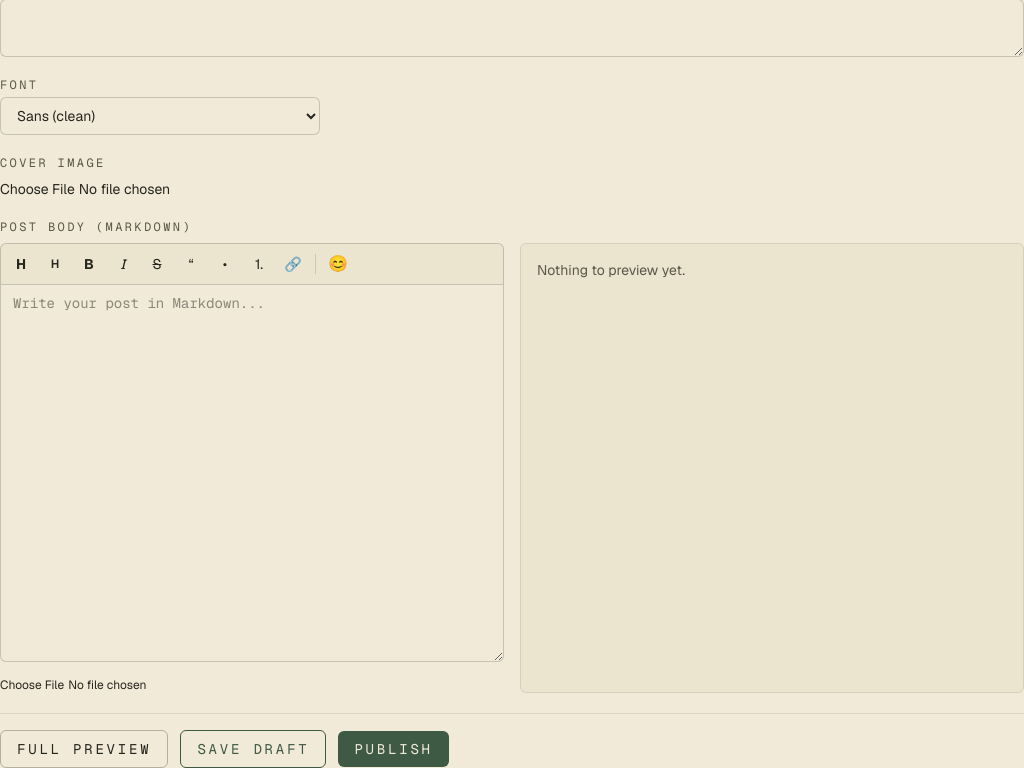
Test case: PostEditor › inserts an emoji at the cursor
(page scrolled)
Type "Hello " into the text box named "post body" at (252, 473), box [0,284,504,662]
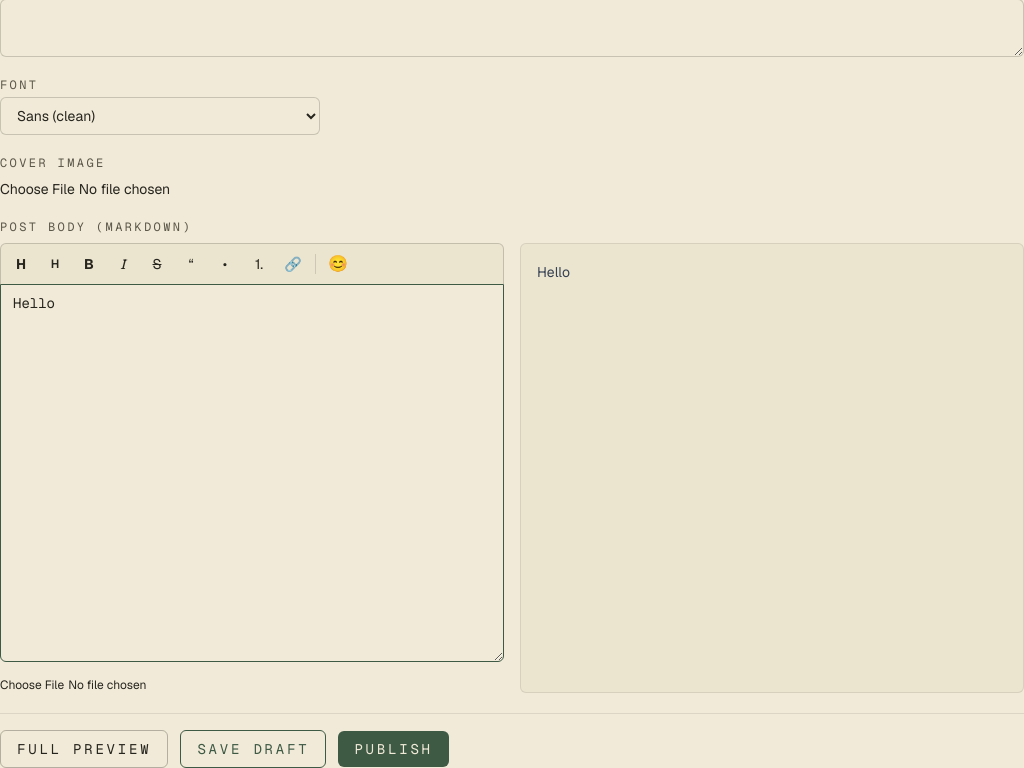
Click the button named "insert emoji" at (338, 264), box [322,248,354,280]
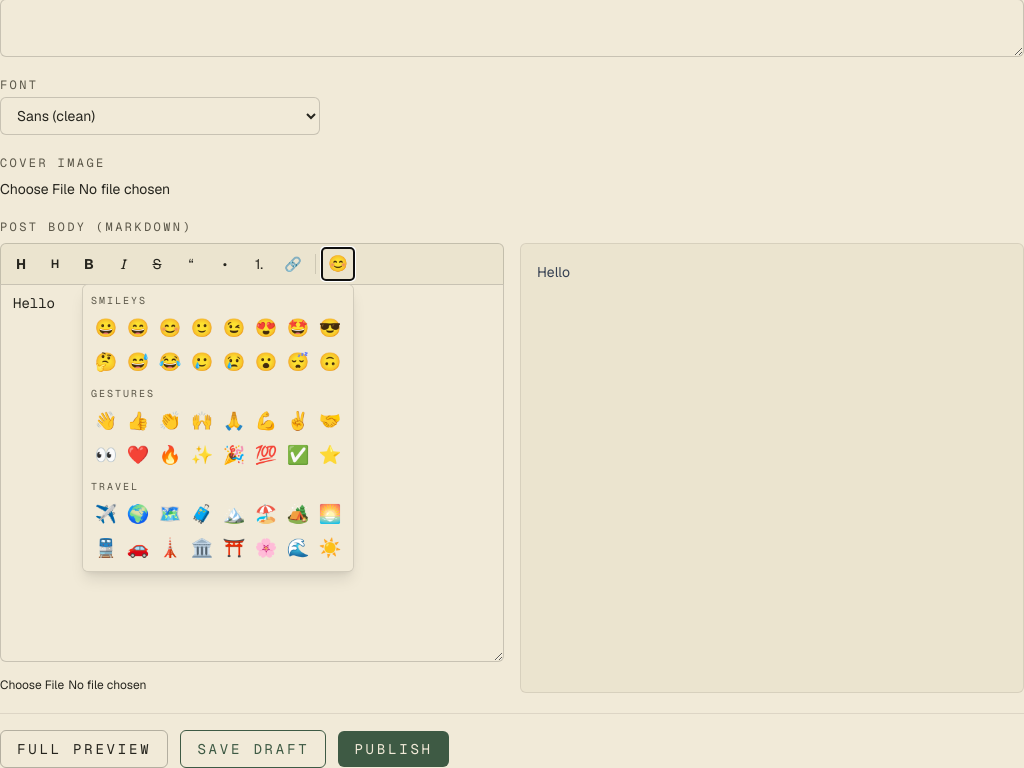
Click the button "😀" at (106, 328), box [91,312,121,344]
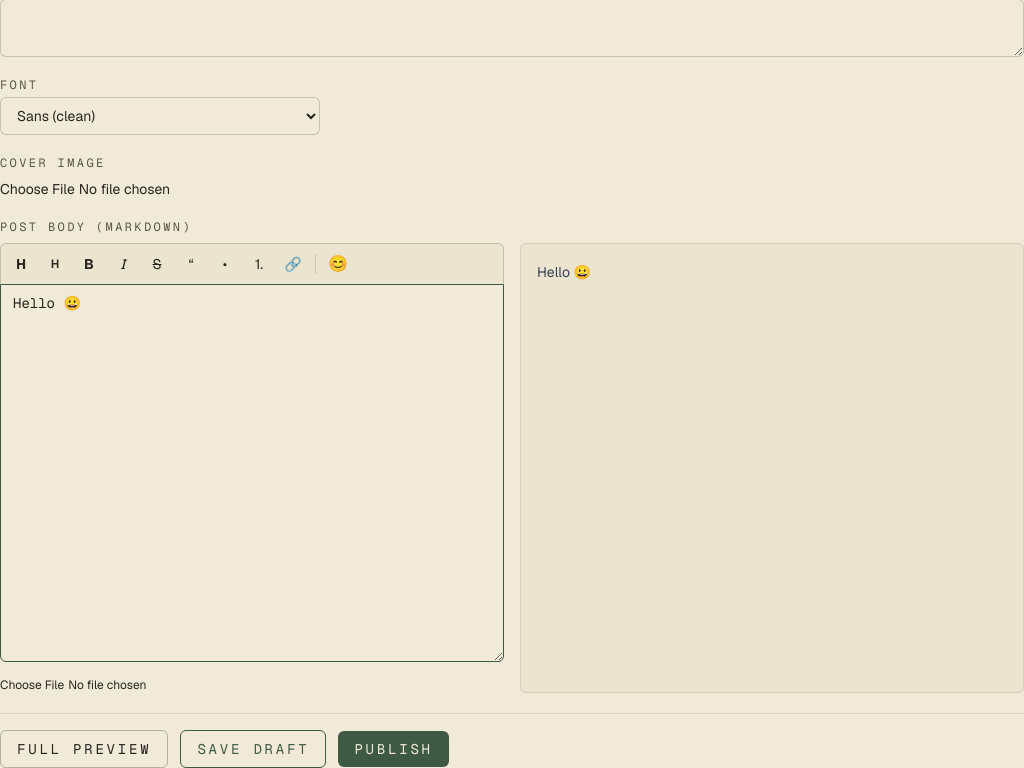
Check: the text box named "post body" holds "Hello 😀", box [0,284,504,662]
